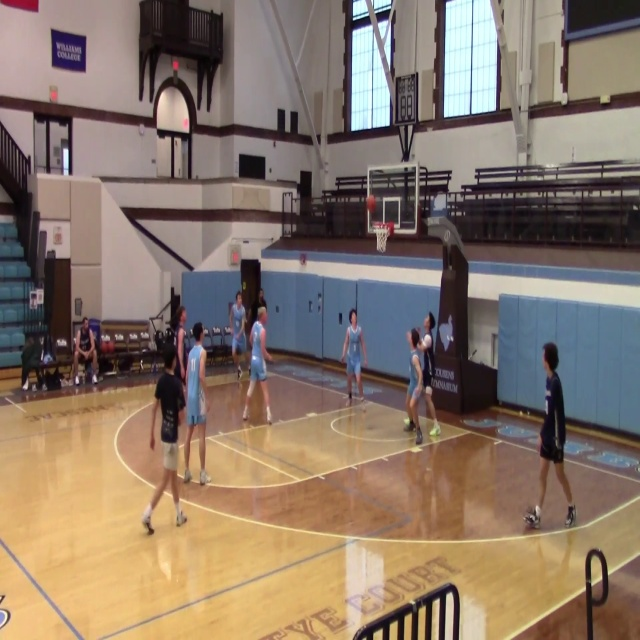Basketball: (365, 195, 376, 212), (423, 334, 432, 348)
